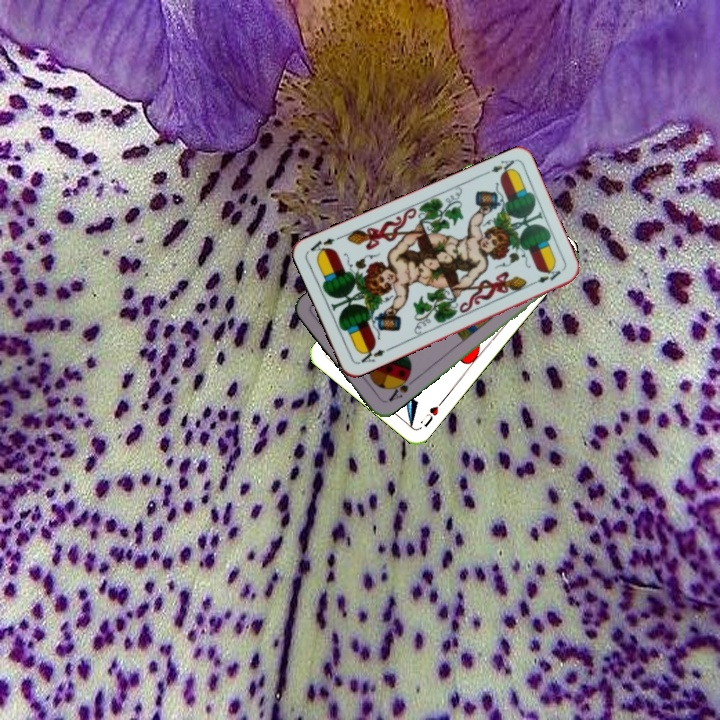EA: (355, 343, 393, 366), (487, 155, 517, 178)
HU: (420, 397, 446, 430)
SA: (384, 370, 413, 405)
